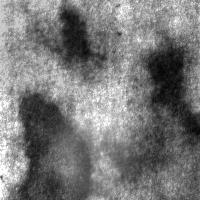patches: (0, 0, 119, 108), (46, 104, 144, 200), (16, 93, 92, 200), (147, 41, 198, 133), (158, 125, 200, 200), (111, 127, 161, 179), (56, 6, 92, 62)
